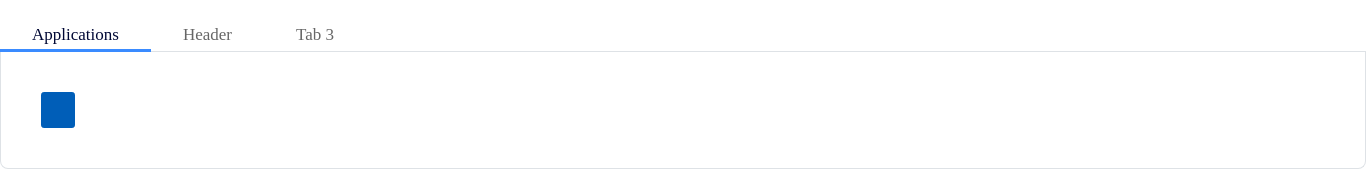
Test: Tabs Component › applies custom properties
The image size is (1366, 186).
Click the button "Tab 3": (315, 30) [280,12,350,49]
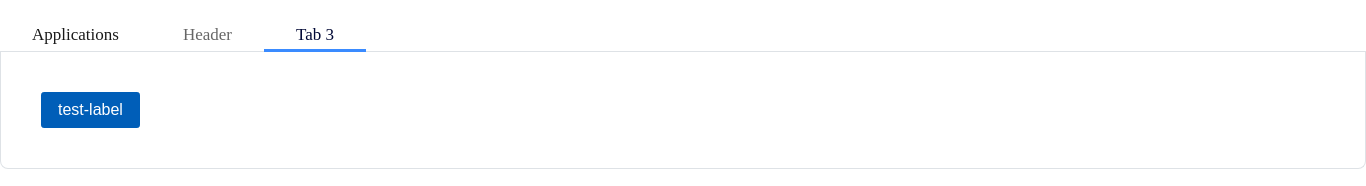
Expected: the button "test-label" is shown, [41,92,140,128]
